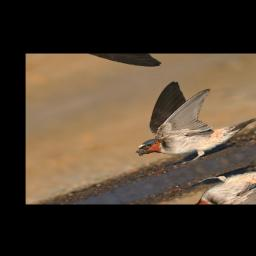Swallow: (96, 67, 256, 175)
